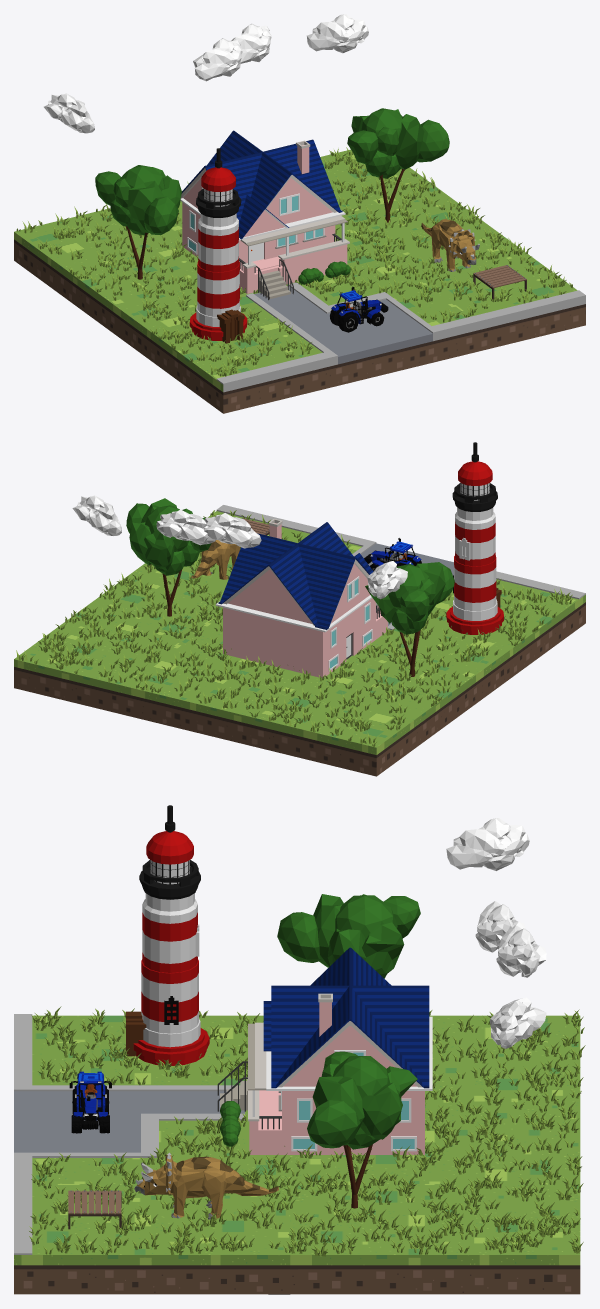
3 views of the same model, one above another, from view 1: azimuth 30°, elevation 25°; view 2: azimuth 150°, elevation 25°; view 3: azimuth 270°, elevation 25° (orthographic). The views are drawn at different scales.
Visible parts, largest first — view 1: Cube.006, Circle.012_Grass_0.192, Cube.313, OBJRANDOM_LIGHTHOUSE, Cube.007, tree, tree.001, ANIMAL_Triceratops, VEHICLES_TRACTOR, Cube.009; view 2: Cube.006, Cube.313, Circle.012_Grass_0.192, OBJRANDOM_LIGHTHOUSE, Cube.007, tree.001, tree, ANIMAL_Triceratops, VEHICLES_TRACTOR; view 3: Cube.006, Circle.012_Grass_0.192, Cube.313, OBJRANDOM_LIGHTHOUSE, tree, Cube.007, tree.001, ANIMAL_Triceratops, VEHICLES_TRACTOR, Cube.009.
Boxes of the visible parts, x1=… form: Cube.006: x1=14, y1=149, x2=585, y2=413; Circle.012_Grass_0.192: x1=16, y1=147, x2=573, y2=376; Cube.313: x1=180, y1=130, x2=349, y2=300; OBJRANDOM_LIGHTHOUSE: x1=189, y1=148, x2=247, y2=343; Cube.007: x1=44, y1=14, x2=368, y2=133; tree: x1=347, y1=108, x2=449, y2=222; tree.001: x1=95, y1=165, x2=181, y2=279; ANIMAL_Triceratops: x1=421, y1=219, x2=479, y2=271; VEHICLES_TRACTOR: x1=330, y1=286, x2=388, y2=332; Cube.009: x1=473, y1=265, x2=526, y2=299; Cube.006: x1=14, y1=505, x2=585, y2=776; Cube.313: x1=215, y1=519, x2=387, y2=678; Circle.012_Grass_0.192: x1=16, y1=510, x2=572, y2=746; OBJRANDOM_LIGHTHOUSE: x1=446, y1=442, x2=503, y2=634; Cube.007: x1=72, y1=495, x2=407, y2=599; tree.001: x1=365, y1=562, x2=454, y2=676; tree: x1=126, y1=498, x2=211, y2=616; ANIMAL_Triceratops: x1=191, y1=540, x2=240, y2=579; VEHICLES_TRACTOR: x1=364, y1=538, x2=421, y2=571; Cube.006: x1=14, y1=1014, x2=580, y2=1294; Circle.012_Grass_0.192: x1=29, y1=1006, x2=585, y2=1256; Cube.313: x1=217, y1=947, x2=432, y2=1154; OBJRANDOM_LIGHTHOUSE: x1=126, y1=805, x2=209, y2=1065; tree: x1=307, y1=1051, x2=417, y2=1208; Cube.007: x1=446, y1=818, x2=546, y2=1048; tree.001: x1=277, y1=894, x2=420, y2=978; ANIMAL_Triceratops: x1=134, y1=1152, x2=278, y2=1219; VEHICLES_TRACTOR: x1=69, y1=1071, x2=111, y2=1133; Cube.009: x1=68, y1=1190, x2=121, y2=1229.
Bounding box in the file's own units: 4071 × 2295 × 4040.
39 materials, 3 textured.
